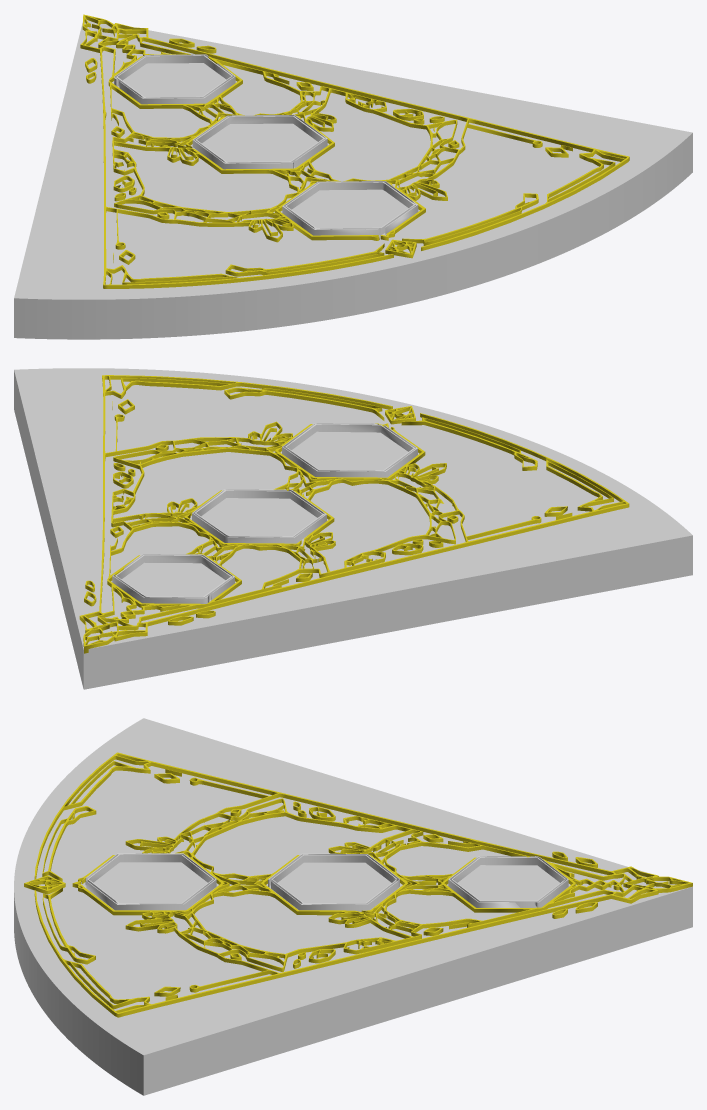
File: floor_ethic.glb
The picture shows the model from 3 angles, top to bottom: view 1: azimuth 30°, elevation 25°; view 2: azimuth 150°, elevation 25°; view 3: azimuth 270°, elevation 25°; orthographic projection.
Parts seen in each view (by area): view 1: VR_PROGRESS_SECTOR_EARTH_BASE, path1, VR_PROGRESS_CARD_EARTH_03, VR_PROGRESS_CARD_EARTH_02, VR_PROGRESS_CARD_EARTH_01; view 2: VR_PROGRESS_SECTOR_EARTH_BASE, path1, VR_PROGRESS_CARD_EARTH_02, VR_PROGRESS_CARD_EARTH_03, VR_PROGRESS_CARD_EARTH_01; view 3: VR_PROGRESS_SECTOR_EARTH_BASE, path1, VR_PROGRESS_CARD_EARTH_03, VR_PROGRESS_CARD_EARTH_02, VR_PROGRESS_CARD_EARTH_01.
Boxes of the visible parts, x1,y1,x2,y2 form: VR_PROGRESS_SECTOR_EARTH_BASE: (14,20,692,339); path1: (80,14,629,288); VR_PROGRESS_CARD_EARTH_03: (282,181,418,236); VR_PROGRESS_CARD_EARTH_02: (192,114,327,169); VR_PROGRESS_CARD_EARTH_01: (114,54,235,104); VR_PROGRESS_SECTOR_EARTH_BASE: (14,368,692,689); path1: (79,375,629,653); VR_PROGRESS_CARD_EARTH_02: (192,489,326,543); VR_PROGRESS_CARD_EARTH_03: (282,423,417,477); VR_PROGRESS_CARD_EARTH_01: (112,554,234,603); VR_PROGRESS_SECTOR_EARTH_BASE: (14,718,692,1095); path1: (24,752,692,1017); VR_PROGRESS_CARD_EARTH_03: (85,853,216,910); VR_PROGRESS_CARD_EARTH_02: (268,853,399,911); VR_PROGRESS_CARD_EARTH_01: (448,856,568,907).
Bounding box in the file's own units: 8.93 × 0.5944 × 7.6.
